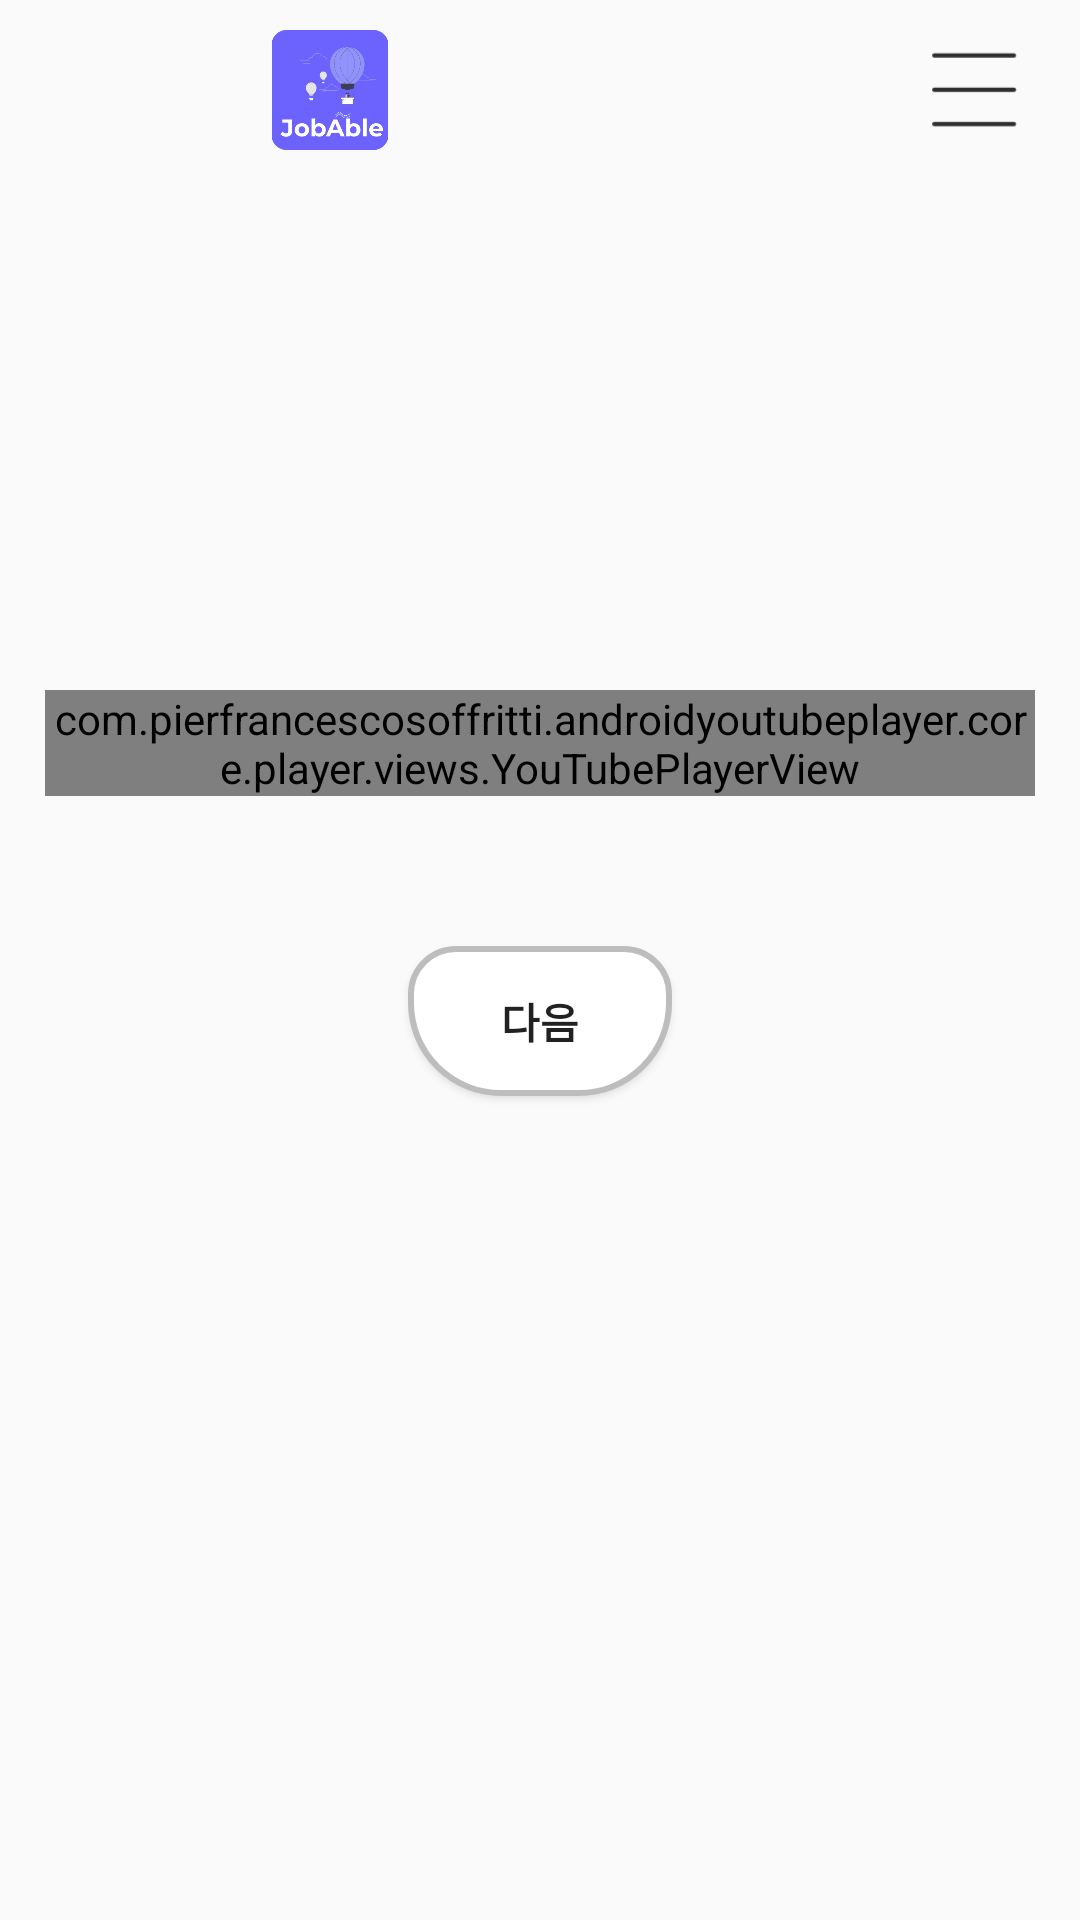

Where to tap for icons on this 1080w x 1920h app screen, as point (x, y):
menu: point (974, 90)
